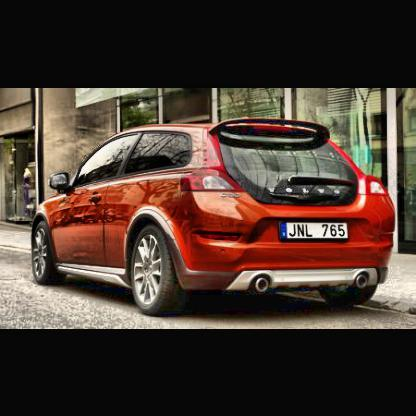Volvo C30 Hatchback 2012: (28, 114, 400, 318)
